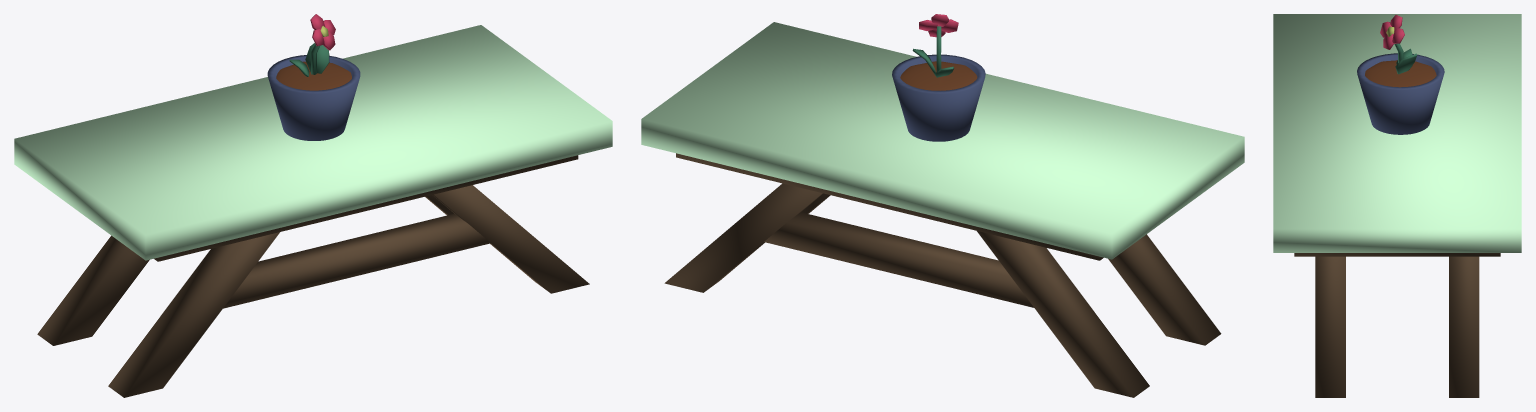
Rendered from LittleTable_Livingroom_V1.fbx.
The picture shows the model from 3 angles, left to right: view 1: azimuth 30°, elevation 25°; view 2: azimuth 150°, elevation 25°; view 3: azimuth 270°, elevation 25°; orthographic projection. The views are drawn at different scales.
Parts seen in each view (by area): view 1: Cube.001, Cube.003, Cube, Cylinder, Cube.002, Cylinder.001; view 2: Cube.001, Cube.003, Cube, Cylinder, Cube.002, Cylinder.001; view 3: Cube.001, Cube.003, Cylinder, Cylinder.001, Cube.002, Cube.005.
Part boxes in pixels (x1,y1,x2,y2): Cube.001: (14, 25, 612, 260); Cube.003: (37, 185, 589, 397); Cube: (223, 213, 490, 308); Cylinder: (267, 55, 360, 140); Cube.002: (154, 155, 578, 261); Cylinder.001: (276, 61, 351, 90); Cube.001: (641, 22, 1244, 259); Cube.003: (664, 183, 1221, 397); Cube: (764, 212, 1033, 307); Cylinder: (892, 54, 985, 141); Cube.002: (676, 153, 1103, 260); Cylinder.001: (900, 61, 977, 90); Cube.001: (1273, 14, 1521, 252); Cube.003: (1315, 256, 1479, 397); Cylinder: (1357, 53, 1444, 134); Cylinder.001: (1365, 60, 1436, 87); Cube.002: (1294, 253, 1500, 256); Cube.005: (1395, 53, 1416, 74).
Bounding box in the file's own units: 223 × 133 × 109.
